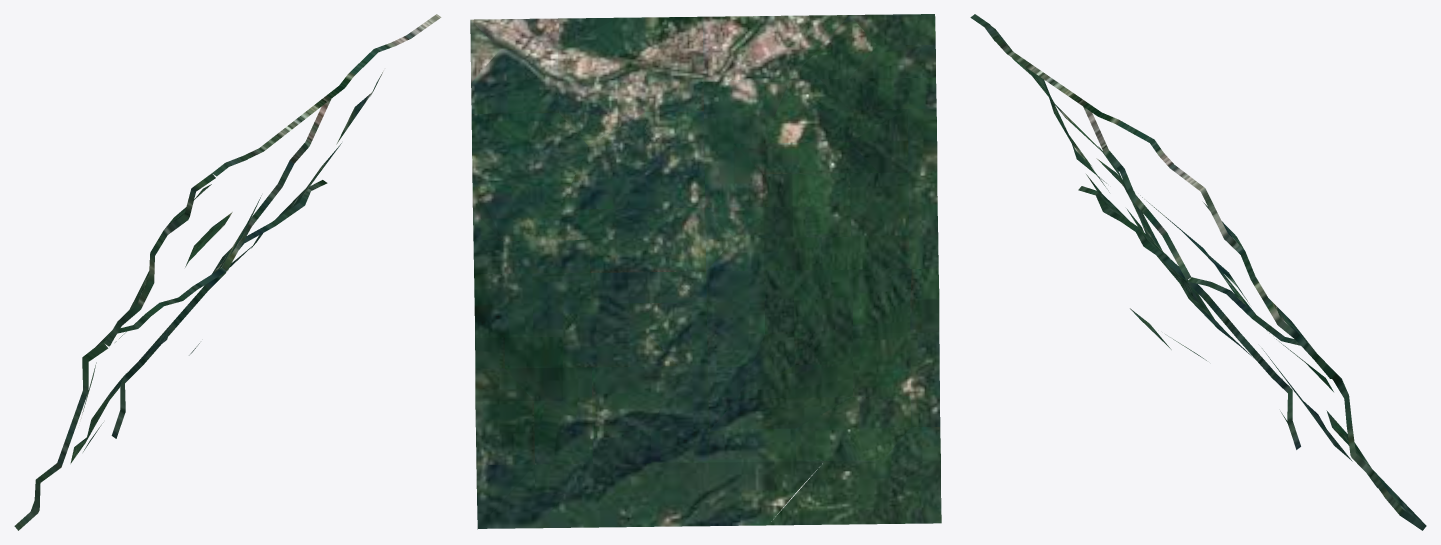
3 renders of one model, left to right at view 1: azimuth 30°, elevation 25°; view 2: azimuth 150°, elevation 25°; view 3: azimuth 270°, elevation 25°, orthographic. The views are drawn at different scales.
Bounding box in the file's own units: 5044 × 4403 × 4405.
Materials: 1 (1 with a texture image).
